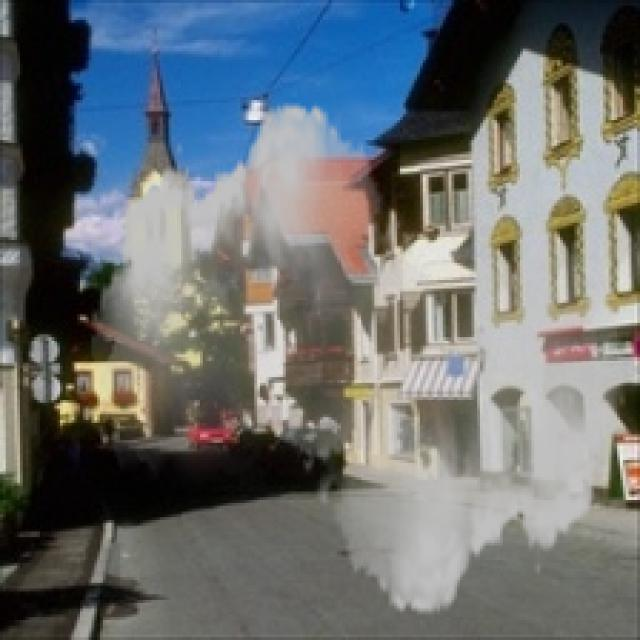smoke: (91, 86, 626, 631)
